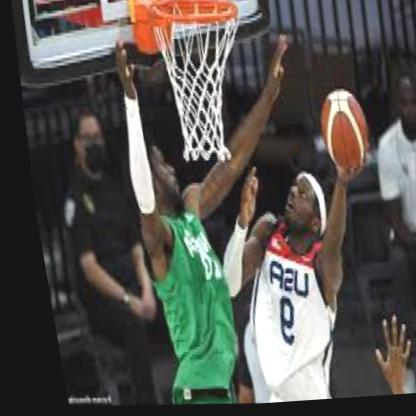basketball: (309, 93, 369, 177)
rim: (142, 0, 240, 36)
